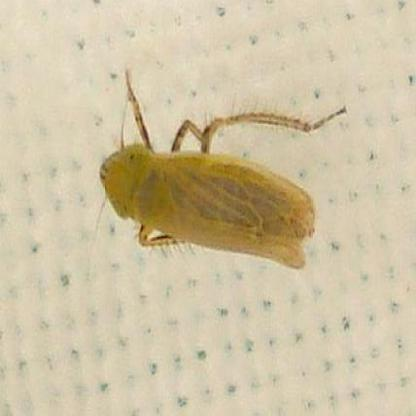green-leafhopper: (99, 72, 352, 268)
